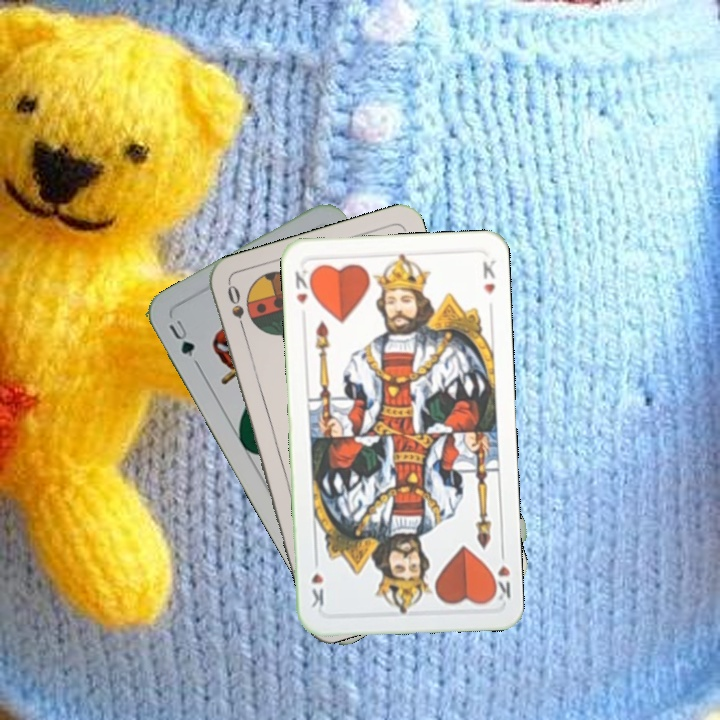GU: (164, 314, 198, 360)
HK: (487, 545, 514, 604), (291, 265, 316, 307)
SO: (223, 281, 249, 339)
